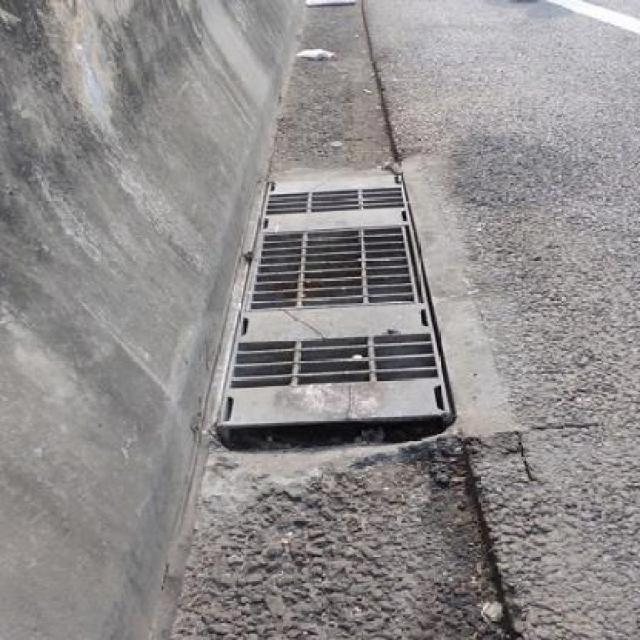drain-clean-: (256, 219, 419, 313)
